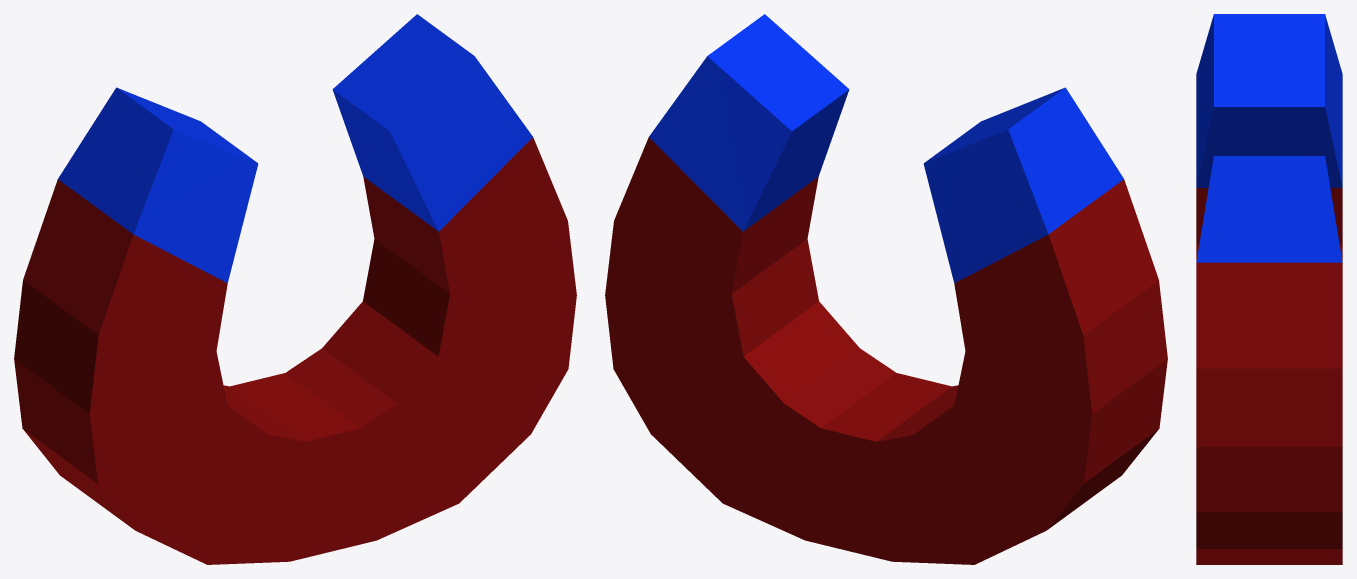
Rendered from Magnet-Pickup.fbx.
3 views of the same model, side by side, from view 1: azimuth 30°, elevation 25°; view 2: azimuth 150°, elevation 25°; view 3: azimuth 270°, elevation 25° (orthographic). The views are drawn at different scales.
Visible parts, largest first — view 1: Magnet; view 2: Magnet; view 3: Magnet.
Part boxes in pixels (<box>): Magnet: <box>14,14,576,564</box>; Magnet: <box>605,14,1167,564</box>; Magnet: <box>1196,14,1342,564</box>.
Size of the model in its own units: 1.12 by 0.9883 by 0.3.
